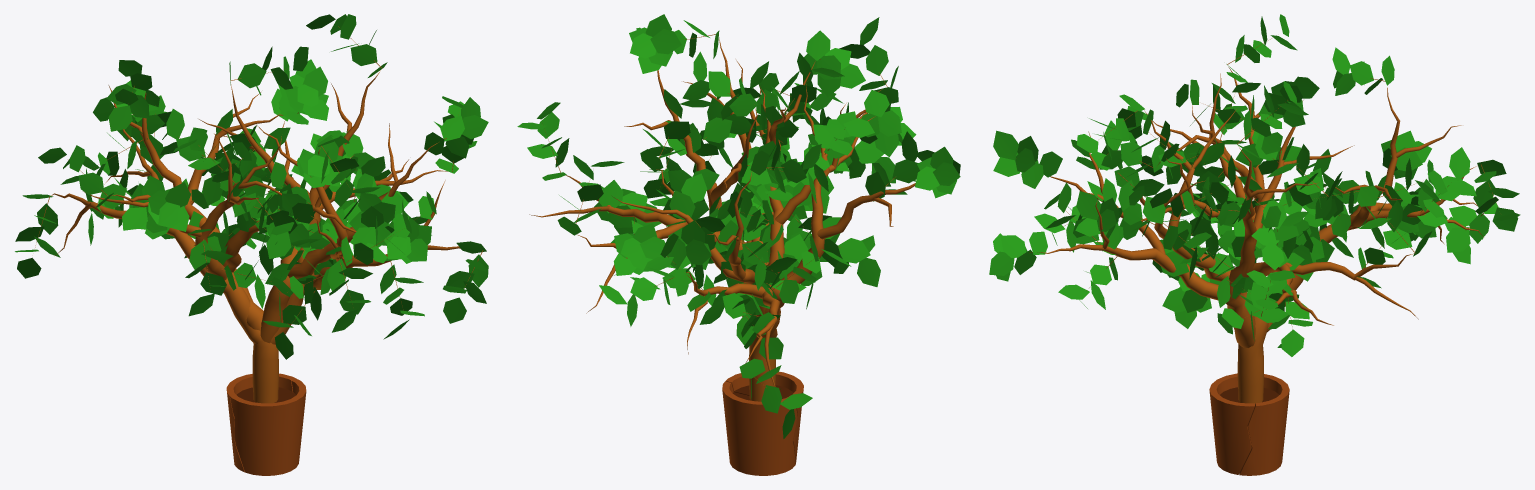
File: broken tree.fbx
The picture shows the model from 3 angles, left to right: view 1: azimuth 30°, elevation 25°; view 2: azimuth 150°, elevation 25°; view 3: azimuth 270°, elevation 25°; orthographic projection. The views are drawn at different scales.
Visible parts, largest first — view 1: Plane, Plane.001, Cylinder.002, Cylinder.001; view 2: Plane, Plane.001, Cylinder.001, Cylinder.002; view 3: Plane.001, Plane, Cylinder.001, Cylinder.002.
Part boxes in pixels (x1=…): Plane: x1=15, y1=14, x2=360, y2=403; Plane.001: x1=195, y1=14, x2=488, y2=359; Cylinder.002: x1=230, y1=379, x2=306, y2=475; Cylinder.001: x1=226, y1=373, x2=296, y2=472; Plane: x1=599, y1=29, x2=960, y2=438; Plane.001: x1=517, y1=14, x2=916, y2=316; Cylinder.001: x1=722, y1=381, x2=797, y2=475; Cylinder.002: x1=725, y1=371, x2=803, y2=463; Plane.001: x1=989, y1=85, x2=1432, y2=356; Plane: x1=1095, y1=14, x2=1520, y2=404; Cylinder.001: x1=1239, y1=374, x2=1289, y2=475; Cylinder.002: x1=1209, y1=373, x2=1254, y2=474.
Size of the model in its own units: 717 by 668 by 765.
